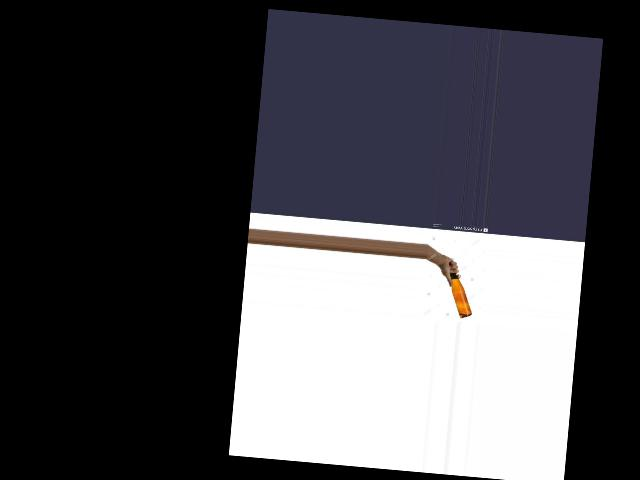beer: (444, 262, 475, 319)
